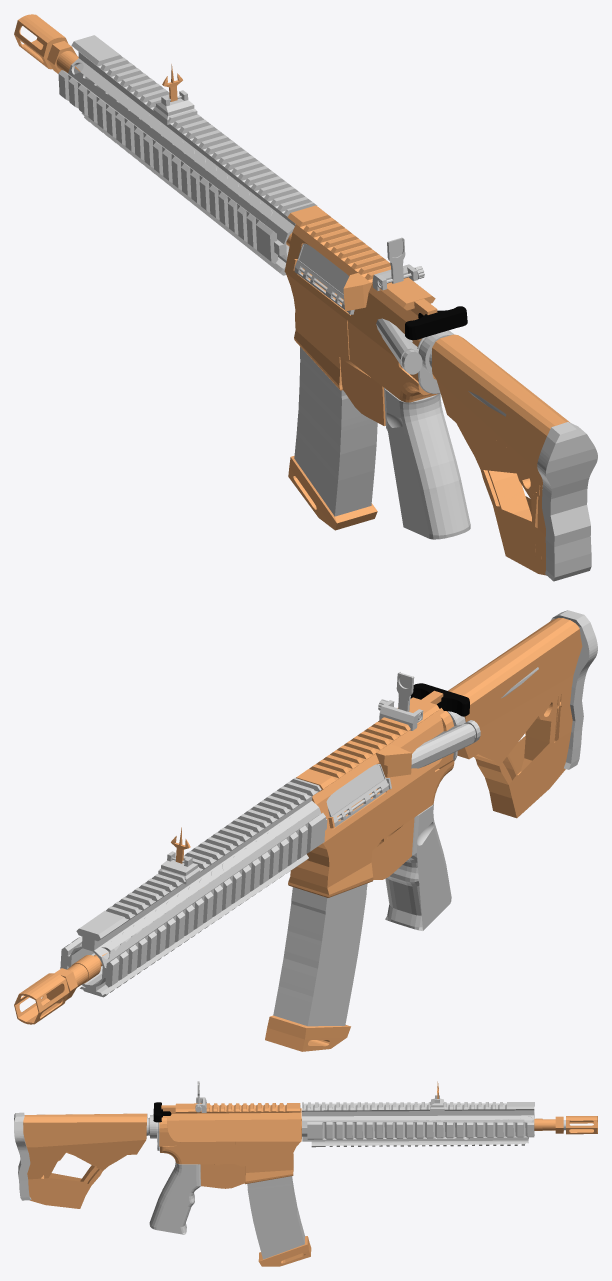
The model's file is d&Dm4ORANGOMAN.fbx.
The picture shows the model from 3 angles, top to bottom: view 1: azimuth 30°, elevation 25°; view 2: azimuth 150°, elevation 25°; view 3: azimuth 270°, elevation 25°; orthographic projection. The views are drawn at different scales.
Visible parts, largest first — view 1: stock, Barrl, Recevier, Magazine, Handle, BASE, iron sight; view 2: Barrl, stock, Recevier, Magazine, BASE, Handle, iron sight; view 3: Barrl, stock, Recevier, BASE, Magazine, Handle, iron sight.
Part boxes in pixels (x1,y1,x2,y2): stock: (417, 330, 597, 581); Barrl: (14, 14, 317, 275); Recevier: (284, 205, 467, 381); Magazine: (288, 347, 377, 530); Handle: (384, 377, 470, 539); BASE: (286, 273, 438, 425); iron sight: (153, 64, 424, 290); Barrl: (14, 778, 327, 1024); stock: (447, 610, 597, 818); Recevier: (296, 683, 480, 843); Magazine: (265, 883, 367, 1051); BASE: (288, 760, 454, 897); Handle: (385, 803, 451, 930); iron sight: (158, 672, 423, 884); Barrl: (301, 1102, 597, 1147); stock: (14, 1112, 159, 1208); Recevier: (153, 1102, 301, 1146); BASE: (160, 1141, 300, 1188); Magazine: (247, 1176, 311, 1266); Handle: (149, 1160, 200, 1234); iron sight: (195, 1081, 444, 1112).
Size of the model in its own units: 67.79 by 295 by 873.
